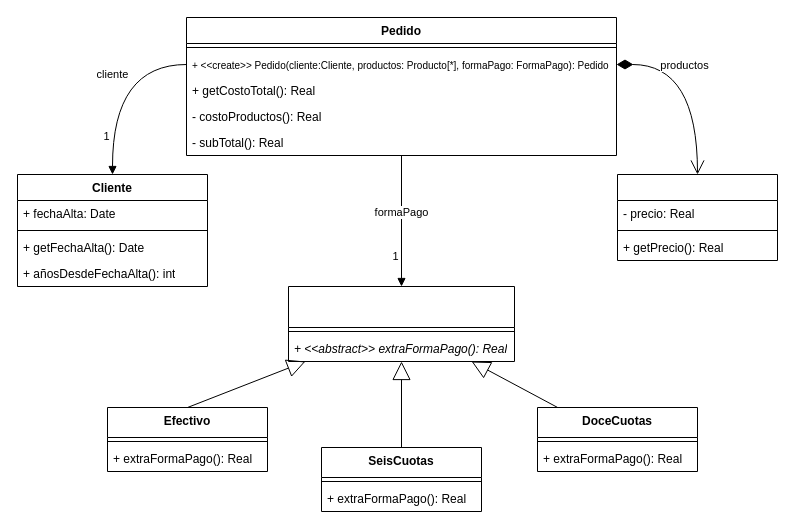
The diagram is 795 pixels wide and 532 high, and some of its shapes have lost their labels. The box of each missing label's shape, as (x1, y1, x2, y2) in pixels:
<<abstract>> FormaPago: (288, 286, 514, 362)
Producto: (616, 174, 778, 260)
